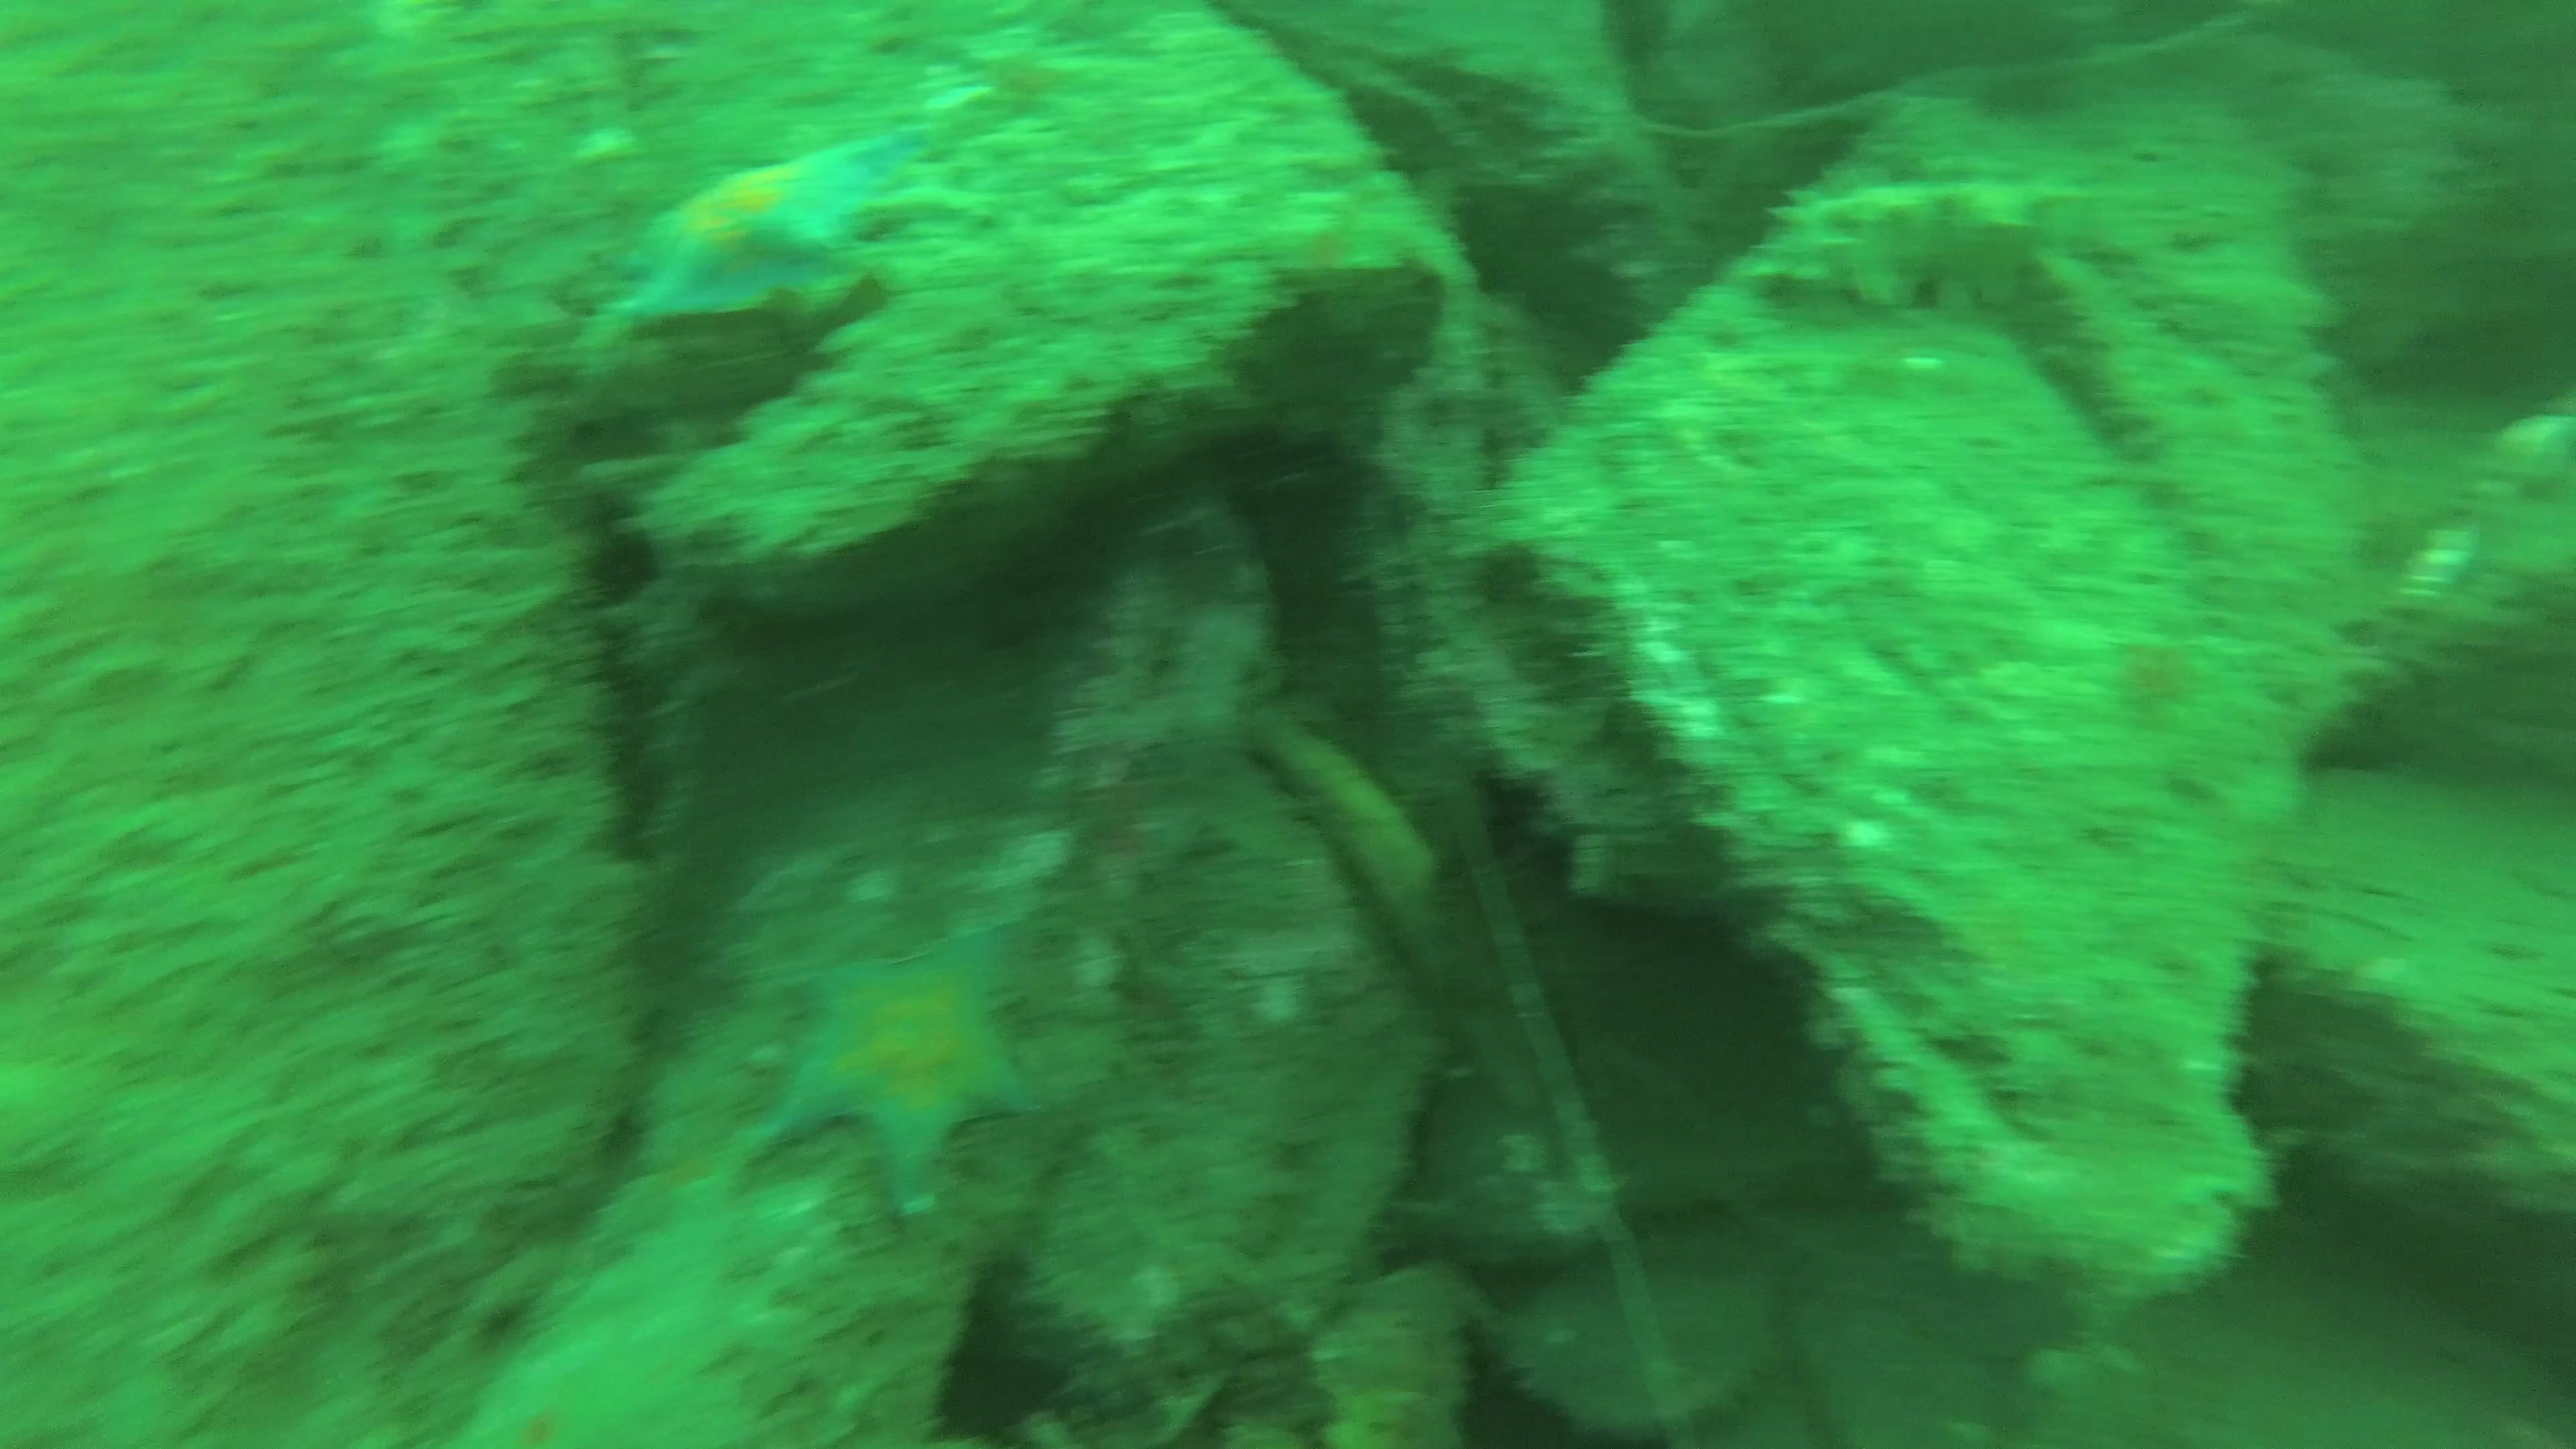holothurian: (1746, 166, 2093, 326)
starfish: (747, 918, 1058, 1223), (605, 117, 929, 327)
